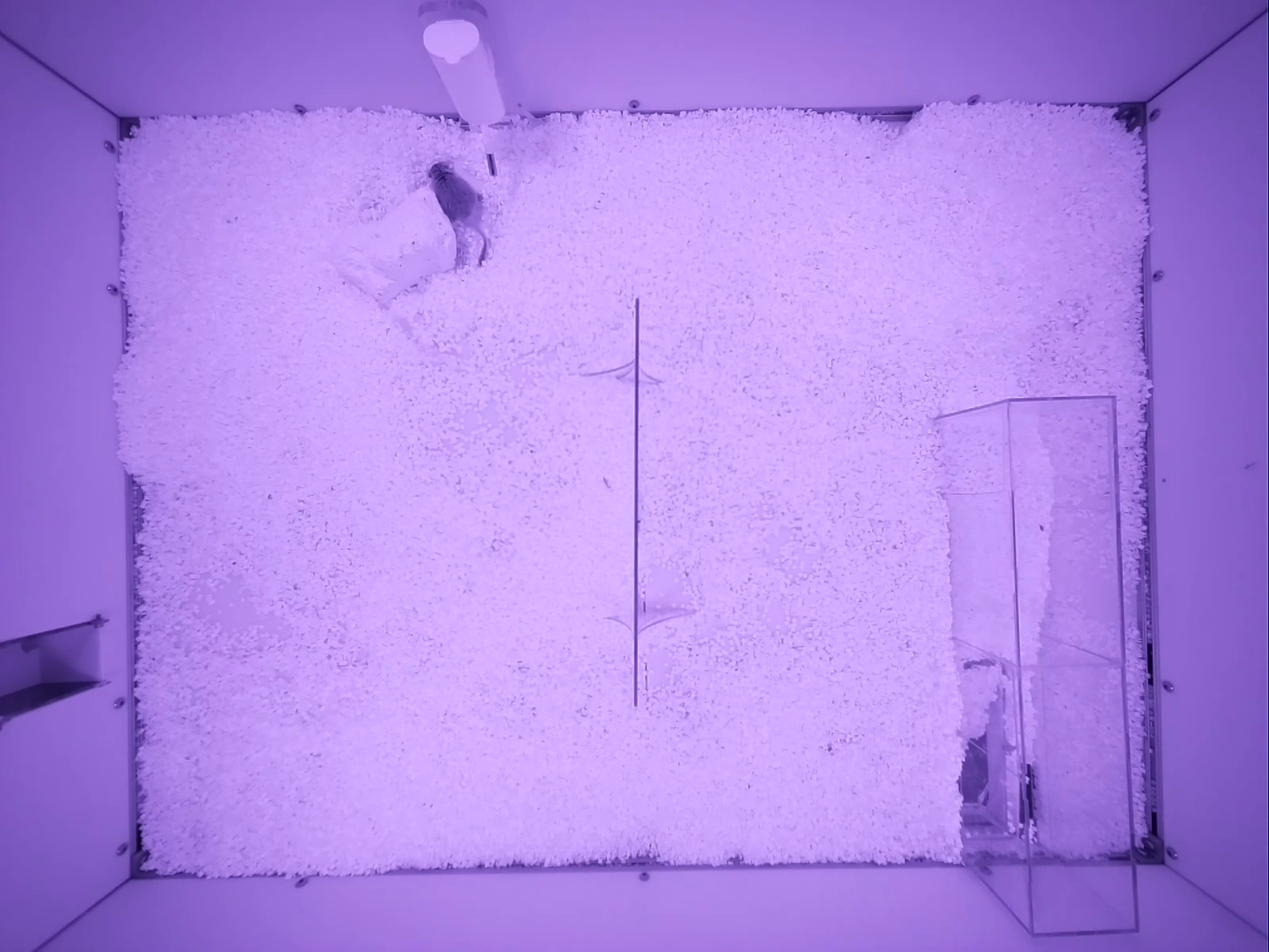adult_back: (427, 161, 488, 263)
